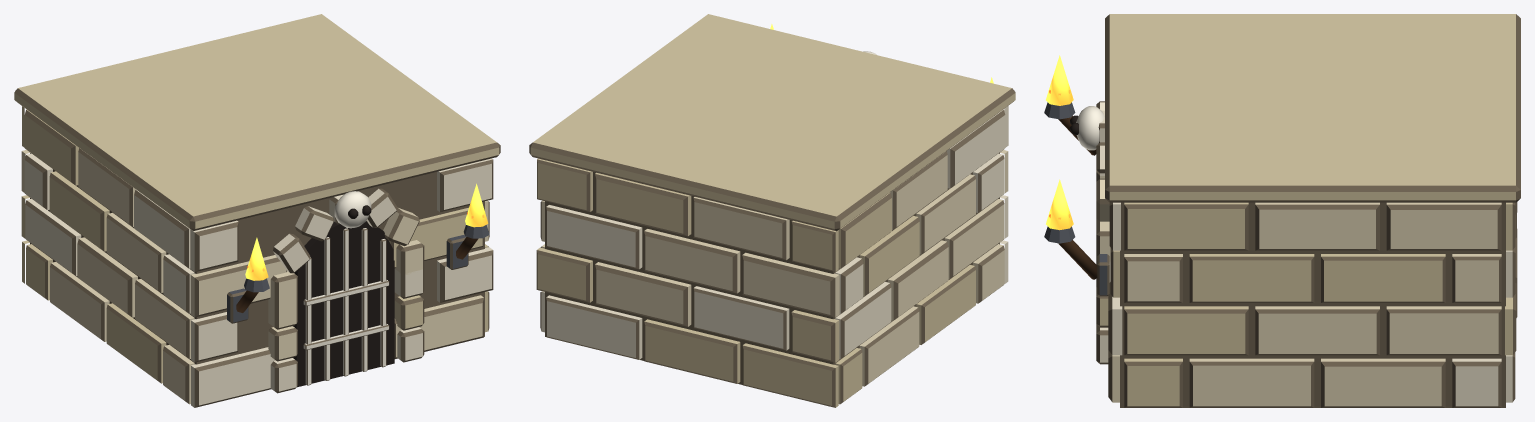
Rendered from block_bone_gate.glb.
3 renders of one model, left to right at view 1: azimuth 30°, elevation 25°; view 2: azimuth 150°, elevation 25°; view 3: azimuth 270°, elevation 25°, orthographic. The views are drawn at different scales.
Visible parts, largest first — view 1: BoneBodyGate; view 2: BoneBodyGate; view 3: BoneBodyGate.
Part boxes in pixels (x1,y1,x2,y2): BoneBodyGate: (14,14,500,407); BoneBodyGate: (529,14,1015,407); BoneBodyGate: (1044,14,1520,407).
Bounding box in the file's own units: 1.33 × 0.8 × 1.53.
